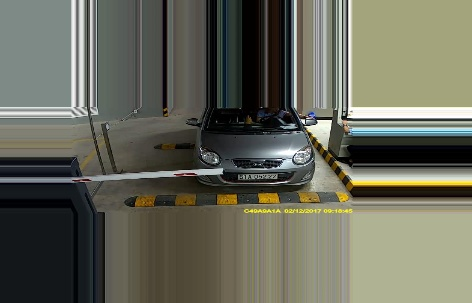plate: (234, 169, 280, 181)
